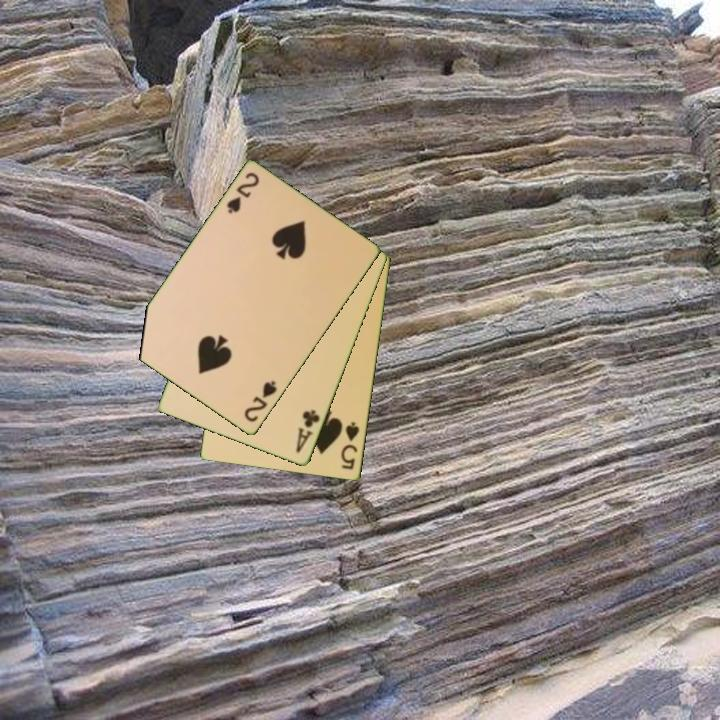2s: (241, 377, 280, 426), (223, 169, 262, 217)
5s: (338, 419, 362, 473)
Ac: (292, 406, 323, 456)
